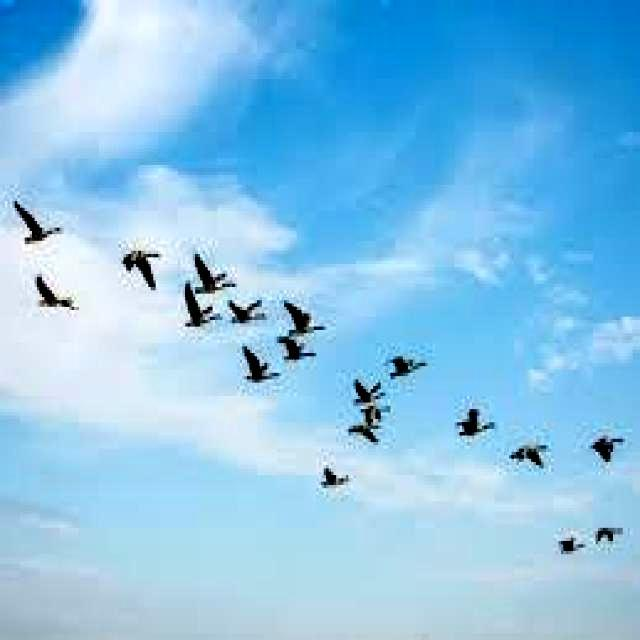bird: (7, 199, 62, 248), (182, 278, 224, 333), (190, 249, 238, 296), (276, 296, 326, 340), (118, 246, 164, 292), (28, 274, 78, 316), (586, 428, 632, 468), (272, 330, 318, 368), (346, 410, 386, 451), (242, 347, 280, 387), (227, 291, 266, 326), (458, 407, 496, 442), (386, 350, 428, 380), (510, 442, 548, 473), (552, 529, 590, 556), (356, 379, 387, 404), (594, 526, 625, 549), (322, 470, 349, 494)
